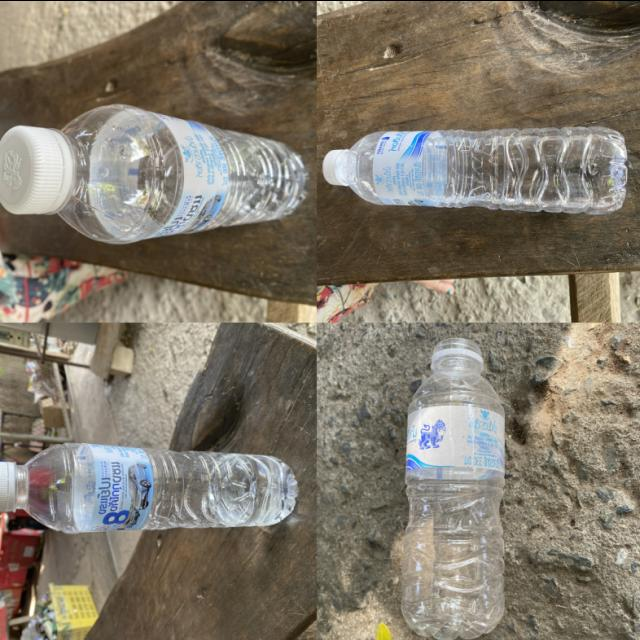plastik: (0, 104, 308, 243), (402, 337, 505, 638), (0, 442, 298, 533), (324, 126, 627, 213)
